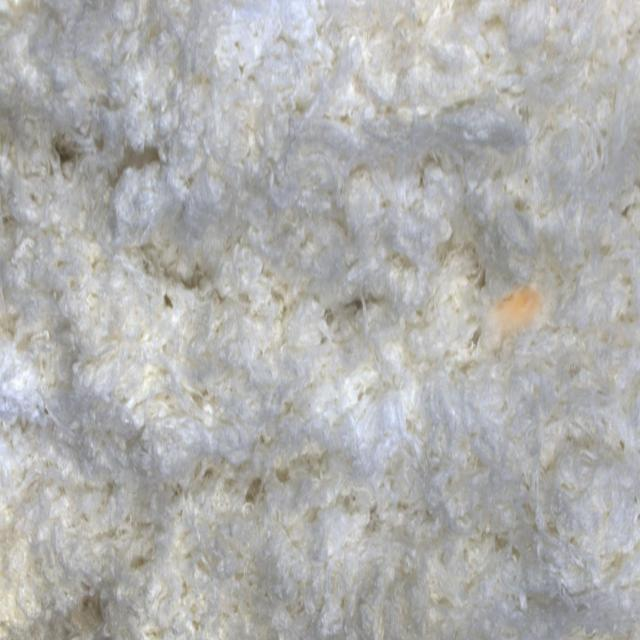dust: (479, 280, 558, 375)
